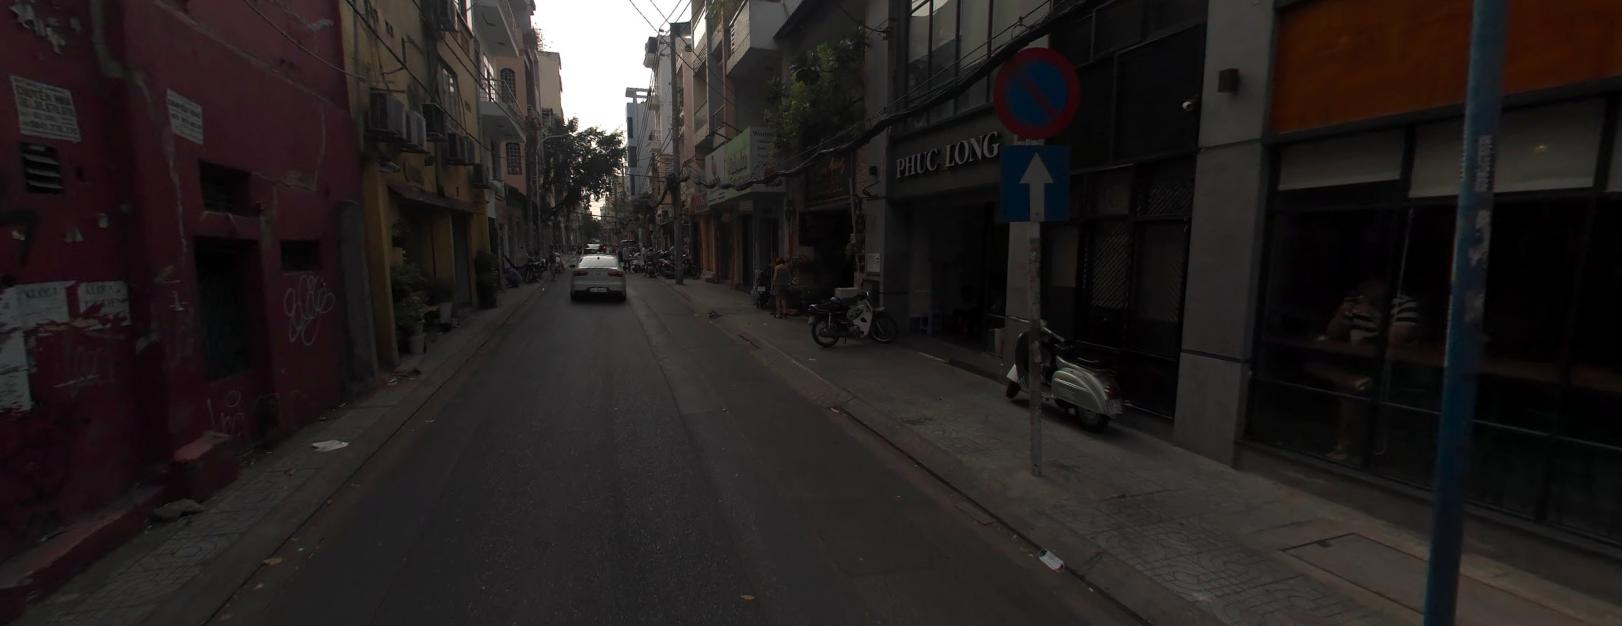Cam dung va do: (994, 47, 1076, 139)
